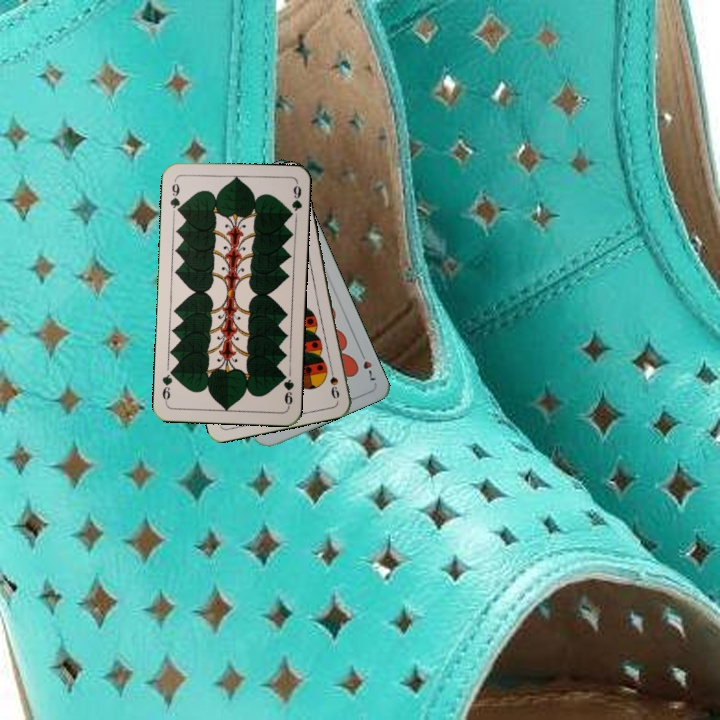G9: (278, 369, 296, 410), (166, 176, 184, 217)
H7: (355, 346, 379, 383)
S9: (326, 361, 342, 402)
